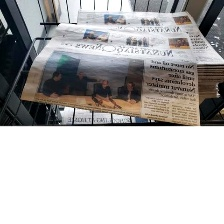news_paper: (16, 29, 201, 127), (74, 6, 223, 100)
